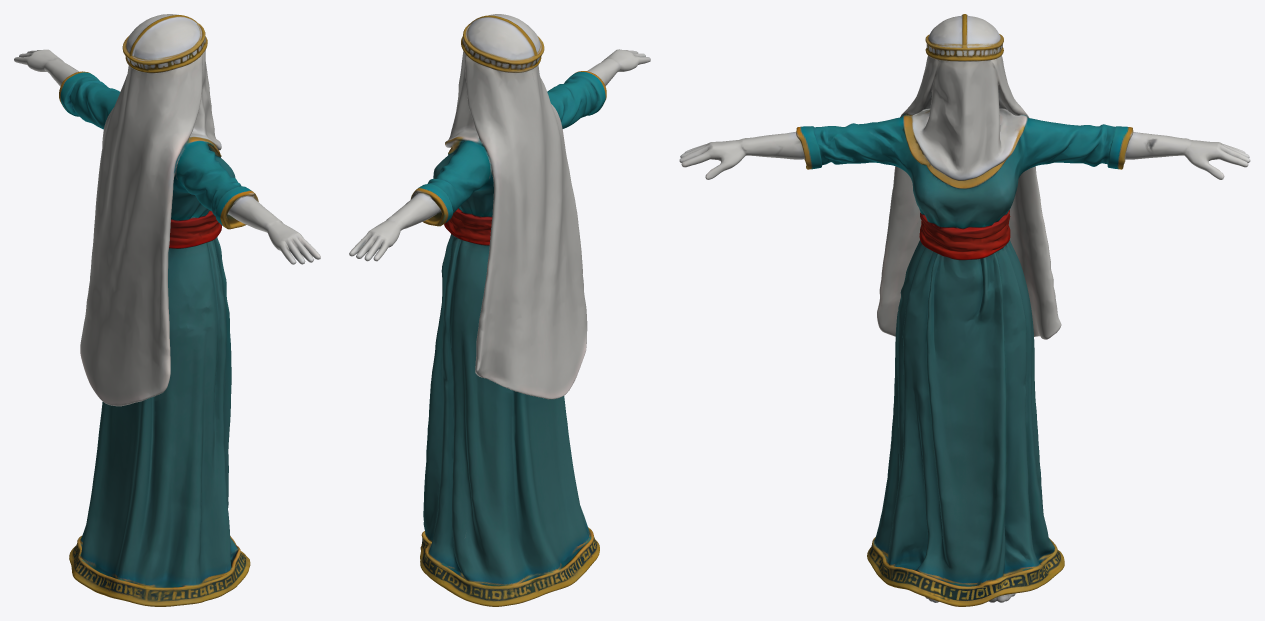
Rendered from veil3.glb.
3 renders of one model, left to right at view 1: azimuth 30°, elevation 25°; view 2: azimuth 150°, elevation 25°; view 3: azimuth 270°, elevation 25°, orthographic. The views are drawn at different scales.
Visible parts, largest first — view 1: tripo_node_d8a740ef-fc25-4ea9-ad19-95127b4835cf; view 2: tripo_node_d8a740ef-fc25-4ea9-ad19-95127b4835cf; view 3: tripo_node_d8a740ef-fc25-4ea9-ad19-95127b4835cf.
Part boxes in pixels (x1,y1,x2,y2): tripo_node_d8a740ef-fc25-4ea9-ad19-95127b4835cf: (14, 14, 320, 606); tripo_node_d8a740ef-fc25-4ea9-ad19-95127b4835cf: (349, 14, 650, 606); tripo_node_d8a740ef-fc25-4ea9-ad19-95127b4835cf: (679, 14, 1250, 606).
Bounding box in the file's own units: 0.2907 × 1 × 0.9285.
1 material, 1 textured.
